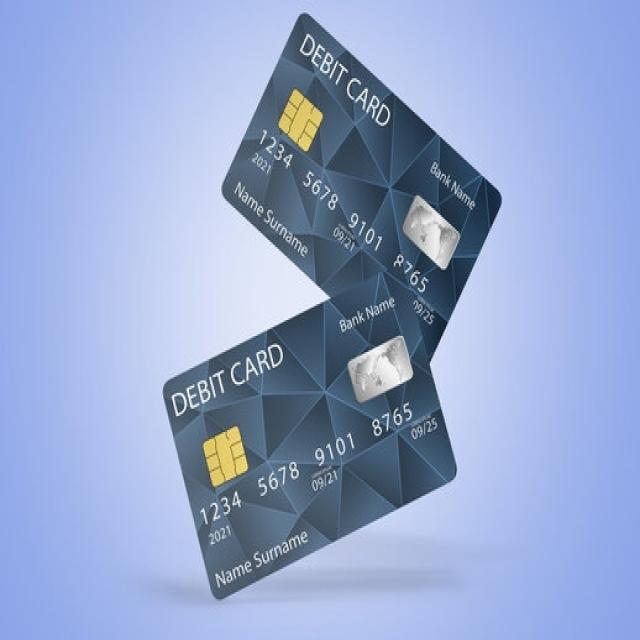payment_card: (224, 11, 503, 360), (159, 279, 458, 598)
